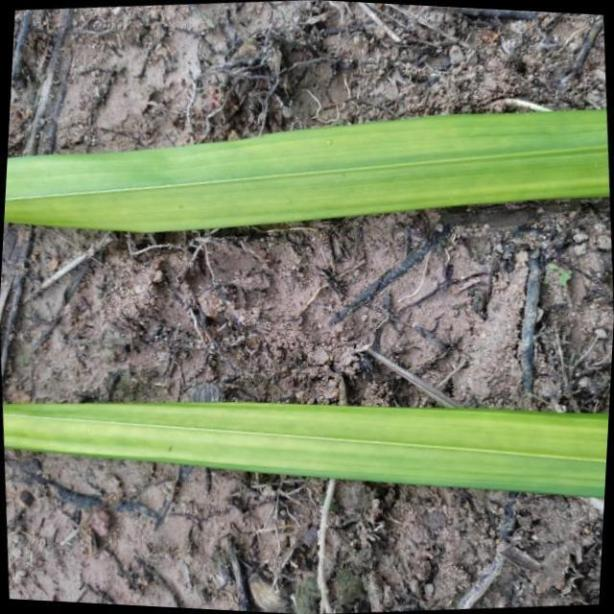nitrogen: (0, 104, 614, 233), (0, 396, 614, 499)
